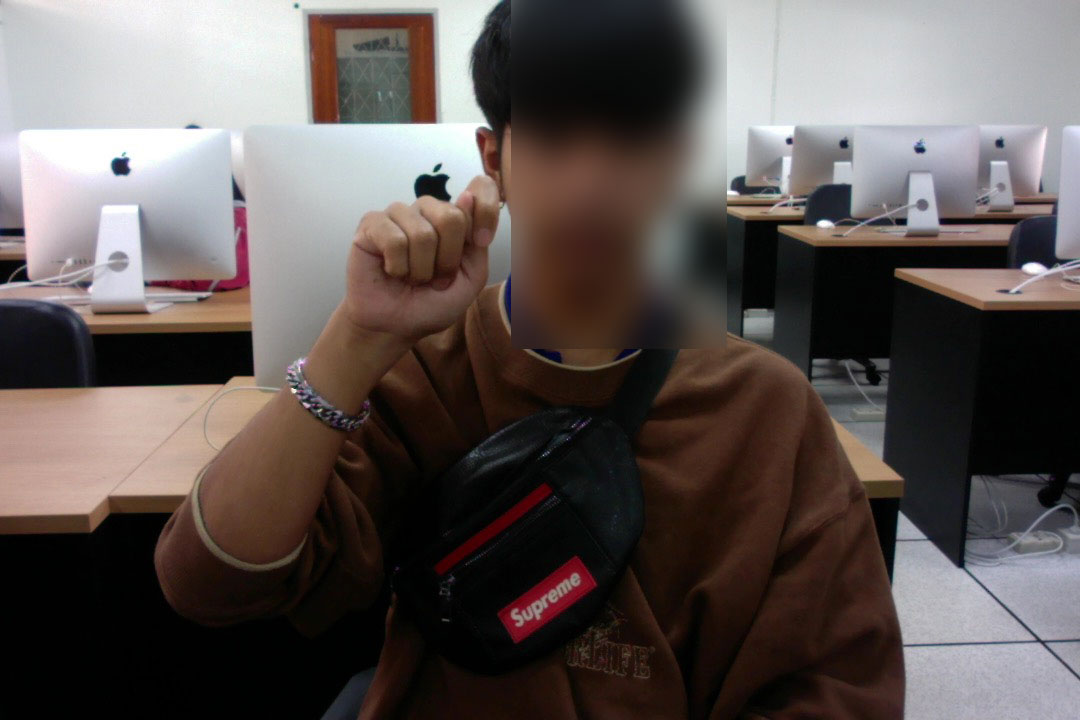tor: (335, 174, 504, 343)
